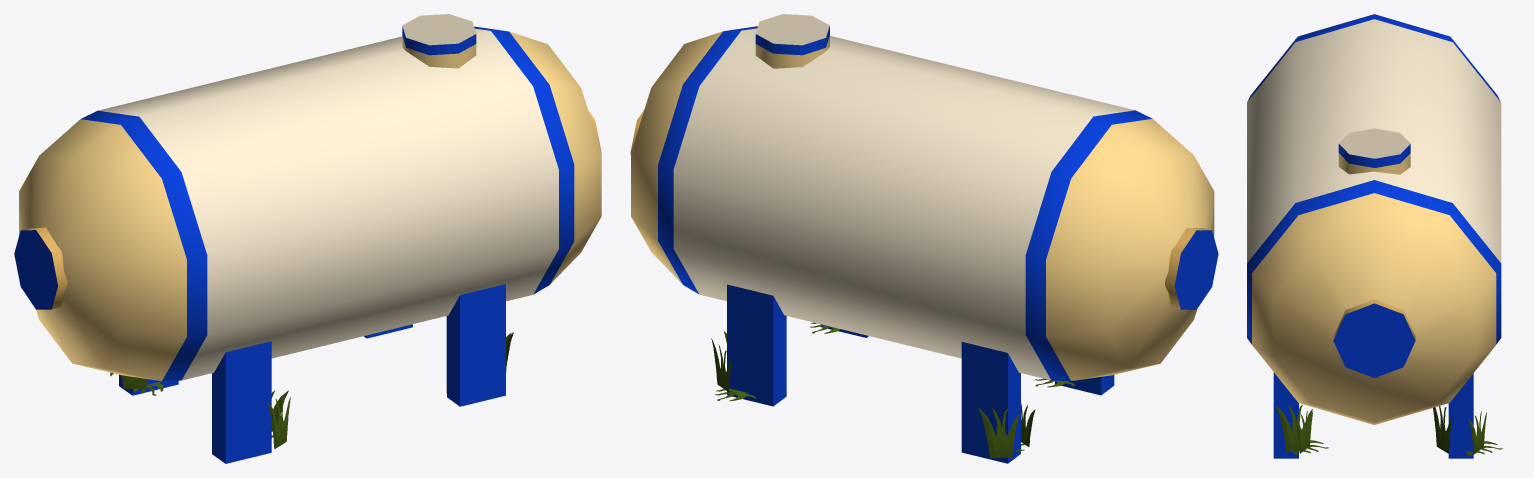
The model's file is Tank.fbx.
3 views of the same model, side by side, from view 1: azimuth 30°, elevation 25°; view 2: azimuth 150°, elevation 25°; view 3: azimuth 270°, elevation 25° (orthographic). The views are drawn at different scales.
Parts seen in each view (by area): view 1: Gas_station.001; view 2: Gas_station.001; view 3: Gas_station.001.
Part boxes in pixels (bbox=[...]): Gas_station.001: bbox=[14, 14, 601, 463]; Gas_station.001: bbox=[630, 14, 1218, 463]; Gas_station.001: bbox=[1247, 14, 1502, 458].
Size of the model in its own units: 374 by 217 by 173.
